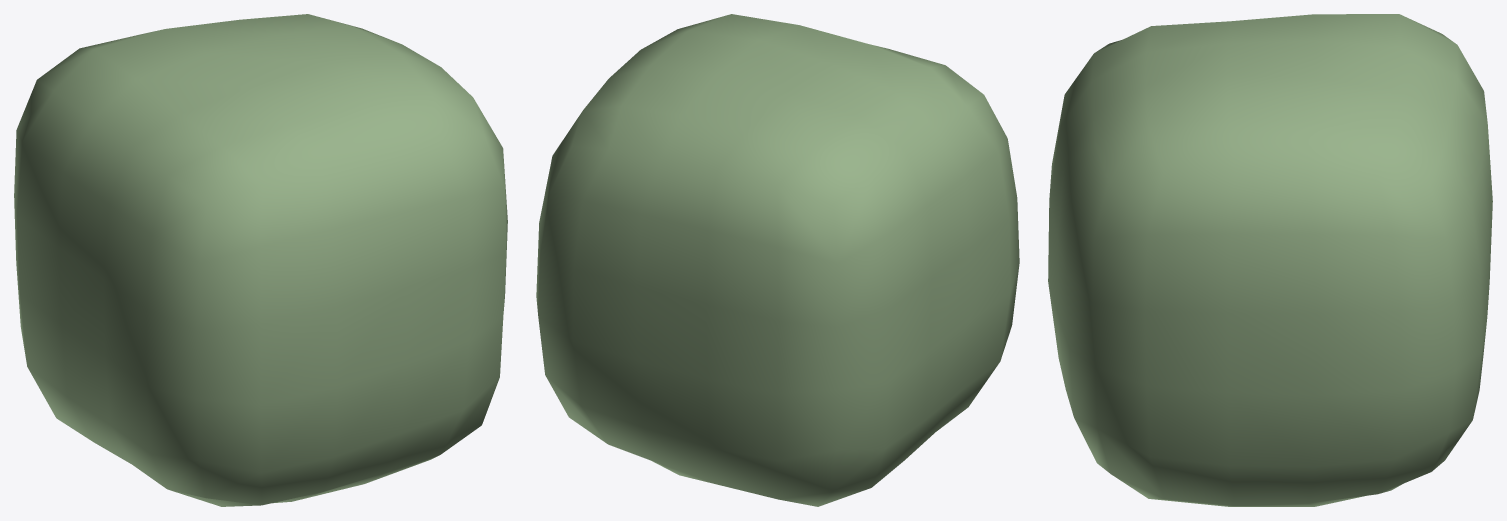
Rendered from hedge_mass.glb.
3 views of the same model, side by side, from view 1: azimuth 30°, elevation 25°; view 2: azimuth 150°, elevation 25°; view 3: azimuth 270°, elevation 25° (orthographic). The views are drawn at different scales.
Visible parts, largest first — view 1: hedge_mass; view 2: hedge_mass; view 3: hedge_mass.
Part boxes in pixels (left/top/right/bottom): hedge_mass: left=14, top=14, right=507, bottom=506; hedge_mass: left=536, top=14, right=1019, bottom=506; hedge_mass: left=1048, top=14, right=1492, bottom=506.
Bounding box in the file's own units: 0.9916 × 1 × 0.9984.
